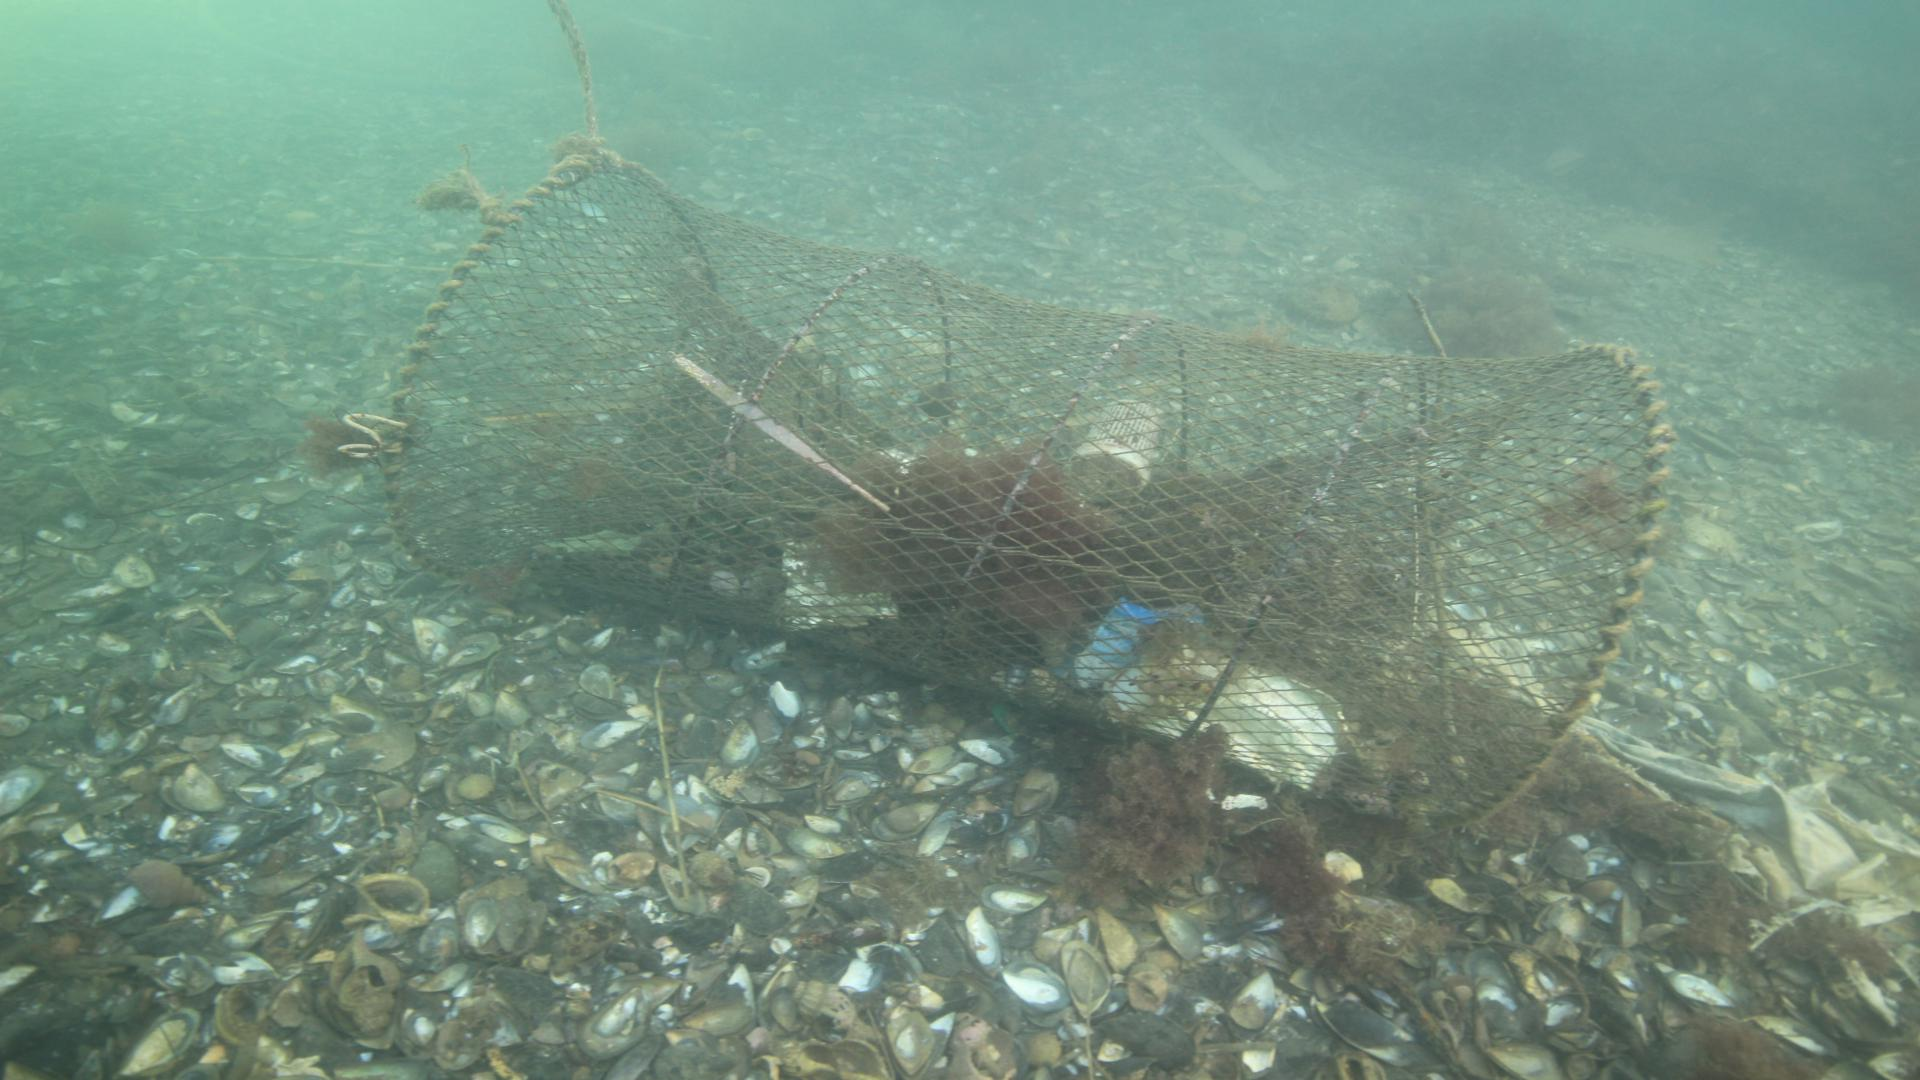rope: (542, 1, 612, 146)
spring fish trap: (378, 146, 1673, 827)
